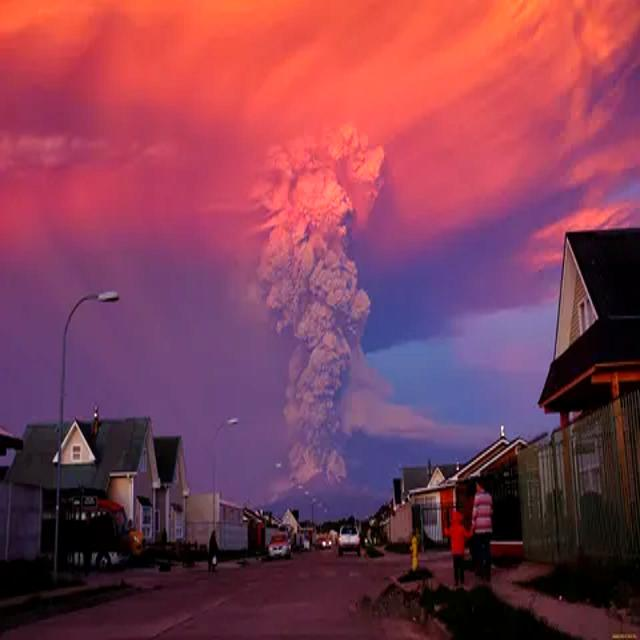Smoke: (242, 123, 374, 481)
